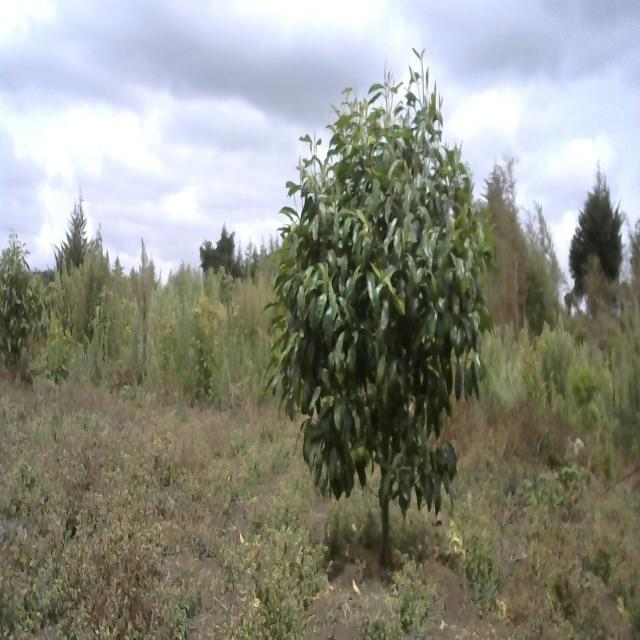Juniperus procesera: (565, 165, 629, 308), (50, 180, 101, 282), (205, 219, 242, 280)
Prunus Africana: (273, 42, 491, 570)
